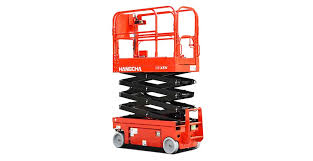Scissor Lift: (111, 5, 204, 154)
